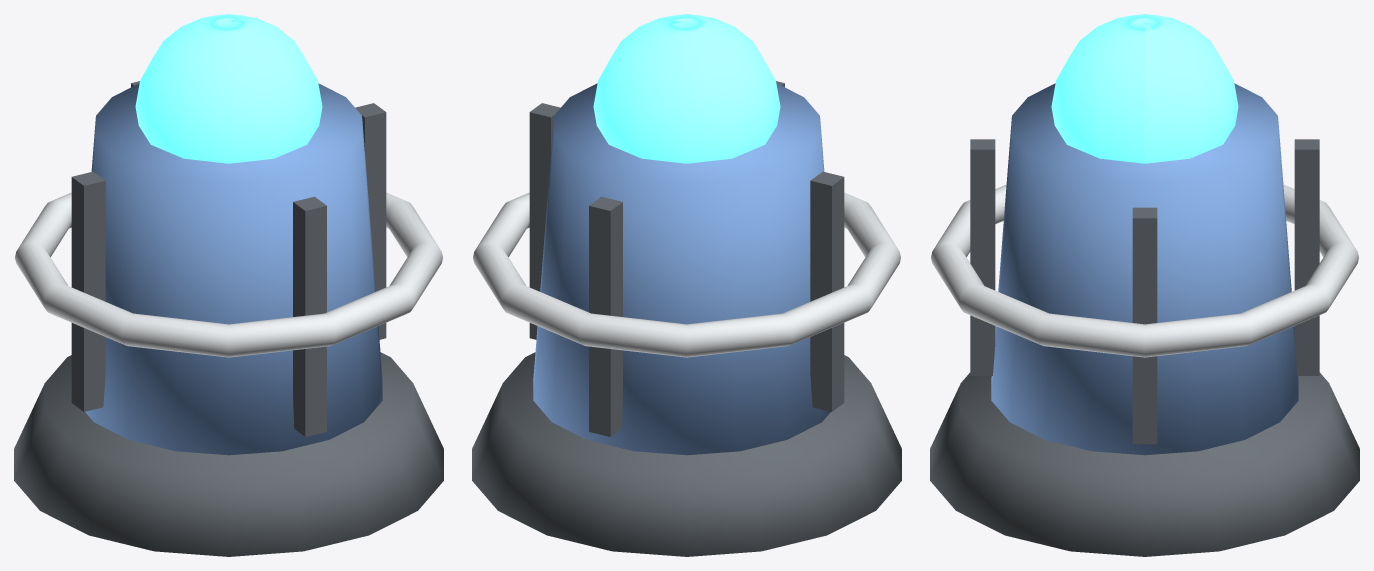
Rendered from 68a9d017-b425-4a26-8ef3-03ffb0325323.glb.
The picture shows the model from 3 angles, left to right: view 1: azimuth 30°, elevation 25°; view 2: azimuth 150°, elevation 25°; view 3: azimuth 270°, elevation 25°; orthographic projection.
Parts seen in each view (by area): view 1: Generated3DMesh; view 2: Generated3DMesh; view 3: Generated3DMesh.
Part boxes in pixels (x1,y1,x2,y2): Generated3DMesh: (14,14,443,556); Generated3DMesh: (472,14,901,556); Generated3DMesh: (930,14,1359,556).
Bounding box in the file's own units: 2.1 × 2.35 × 2.07.
